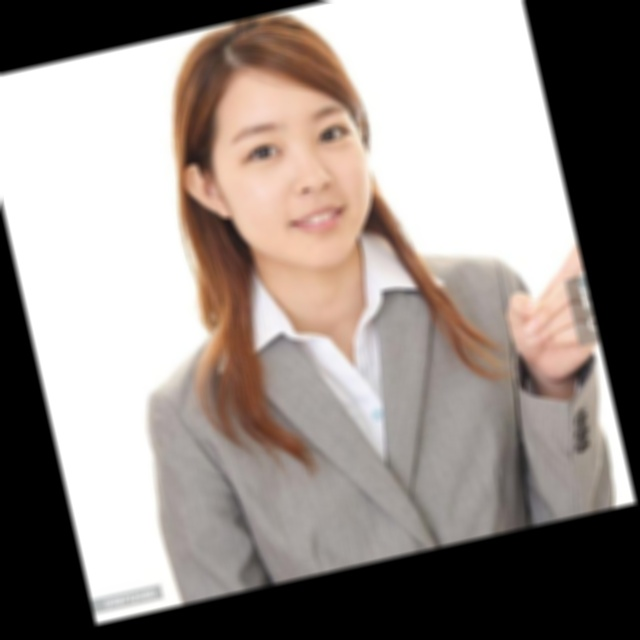Sin_Casco_Mascarrilla: (152, 0, 399, 291)
Sin_Chaleco: (141, 230, 578, 600)
